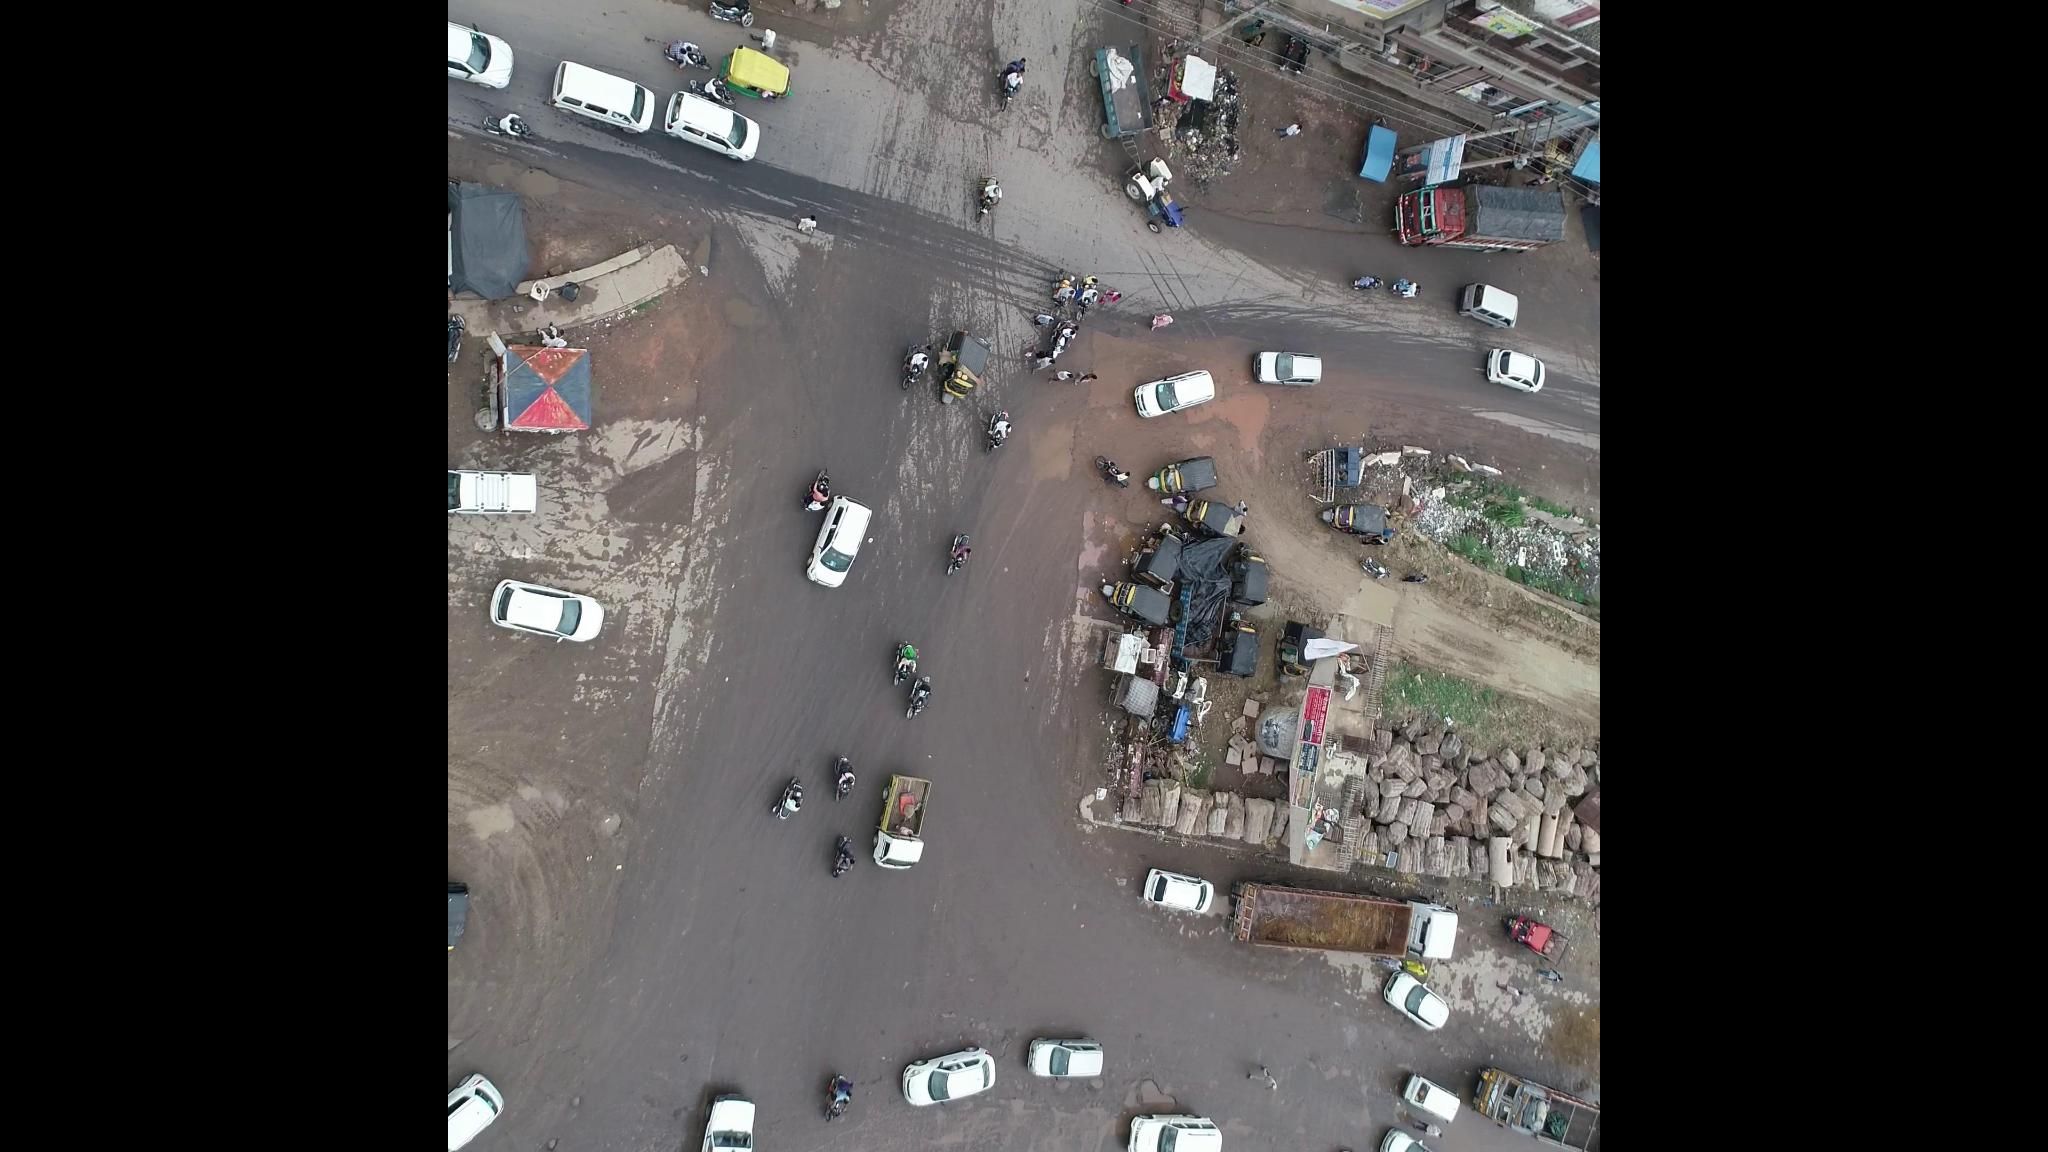Potholes: (1084, 1061, 1190, 1115)
